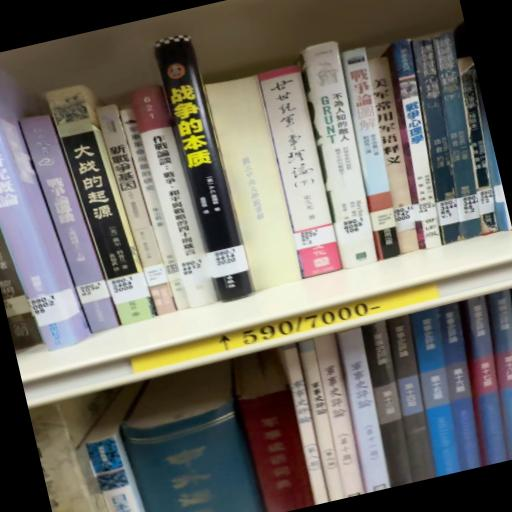backward: (204, 74, 303, 293)
book: (47, 81, 158, 332), (157, 30, 257, 300), (1, 64, 90, 363), (21, 107, 124, 340), (298, 46, 391, 274), (135, 78, 224, 308), (257, 61, 349, 277)
